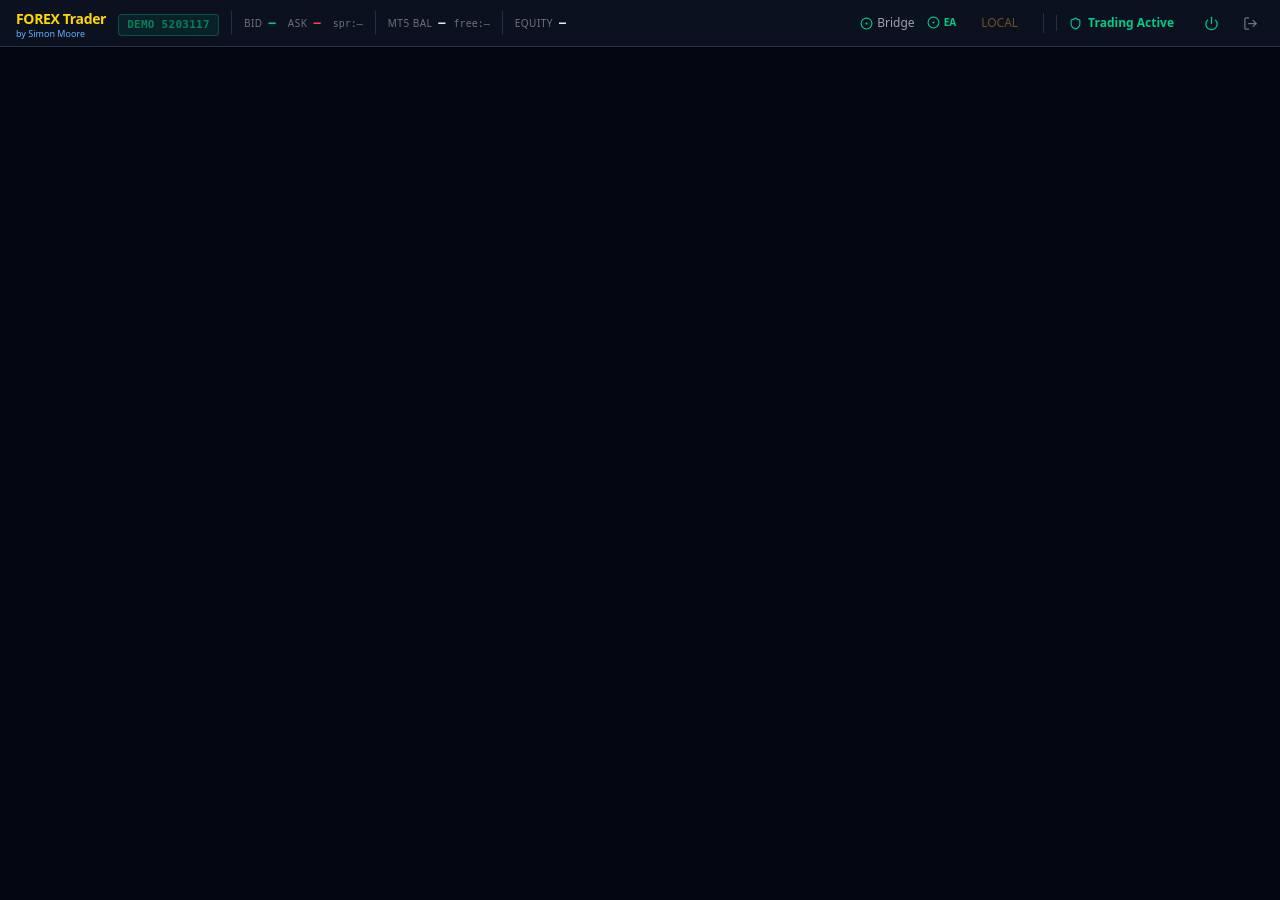
Test: pausing and resuming, from the one control › offers Pause when trading is running
Click the button with test id "trading-status-badge": (1121, 23) 1056,15 -> 1186,31
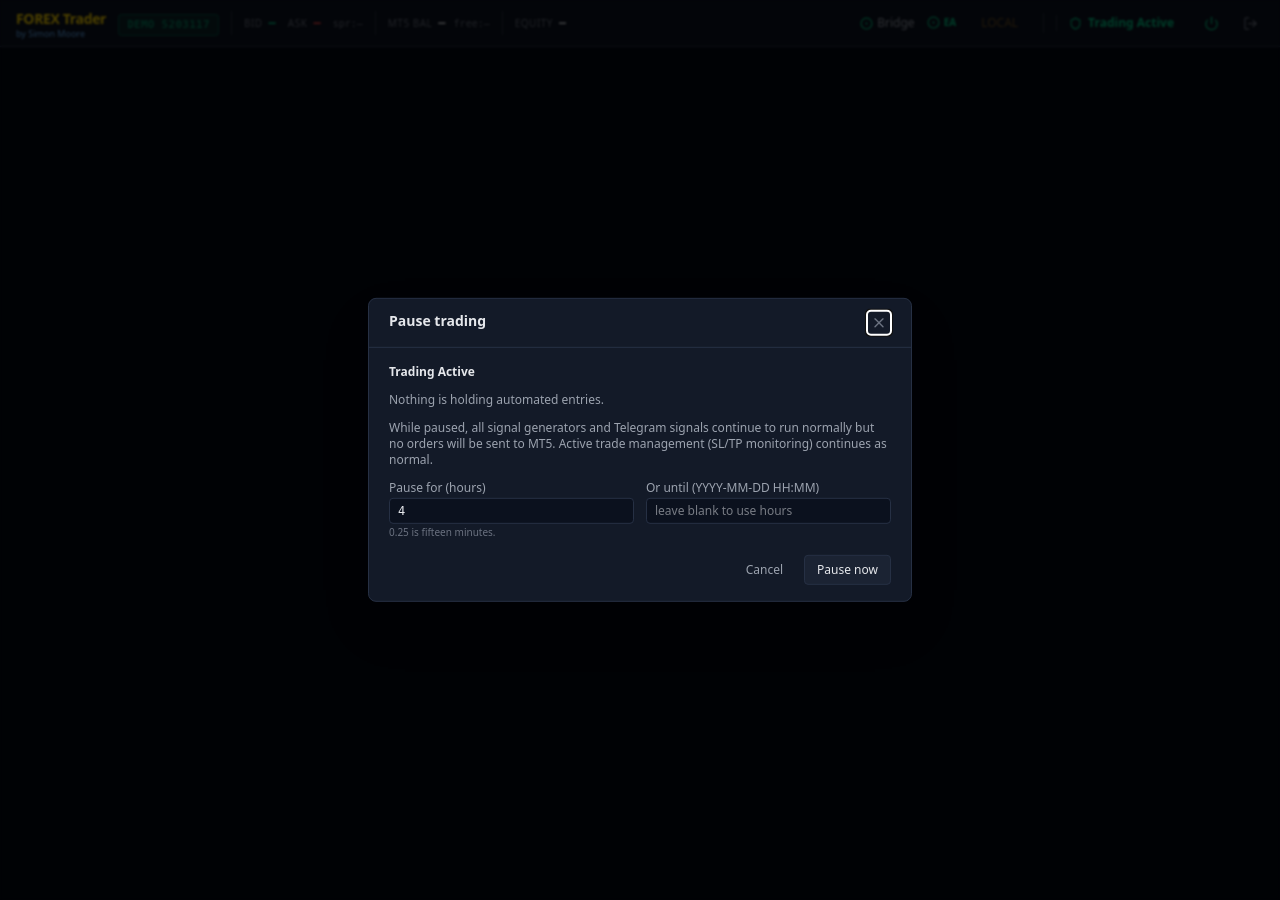
Expected: the button "Pause now" is shown, 804,555 -> 891,585
